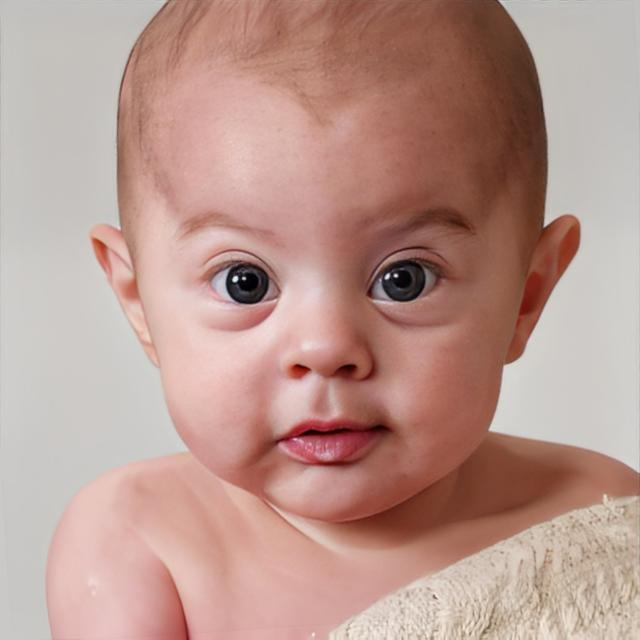surprise: (115, 0, 548, 525)
